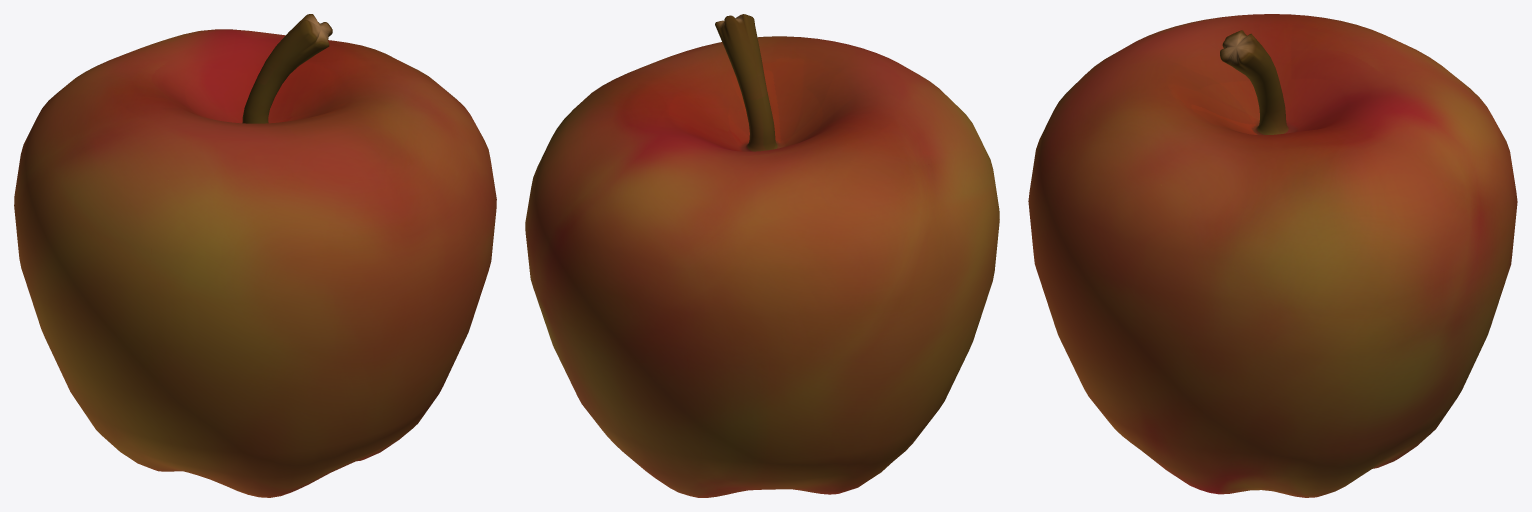
Rendered from apple.fbx.
3 renders of one model, left to right at view 1: azimuth 30°, elevation 25°; view 2: azimuth 150°, elevation 25°; view 3: azimuth 270°, elevation 25°, orthographic. The views are drawn at different scales.
Parts seen in each view (by area): view 1: Sphere; view 2: Sphere; view 3: Sphere.
Part boxes in pixels (x1,y1,x2,y2): Sphere: (14,14,496,497); Sphere: (525,14,999,497); Sphere: (1028,14,1517,497).
Bounding box in the file's own units: 197 × 197 × 196.
